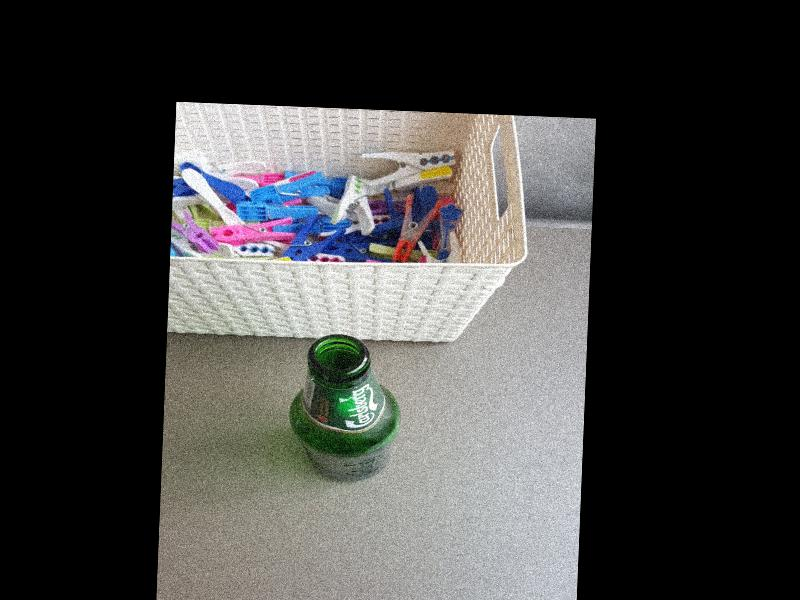Beer: (287, 333, 405, 485)
